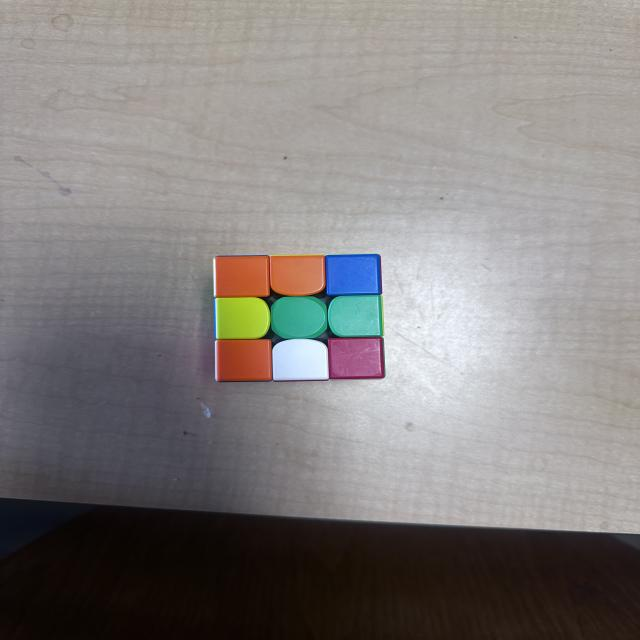sticker: (326, 336, 387, 382), (214, 338, 274, 382), (213, 256, 272, 300), (323, 254, 382, 298), (270, 296, 329, 340), (268, 255, 327, 298), (215, 297, 272, 341), (271, 339, 329, 382), (327, 294, 383, 338)
